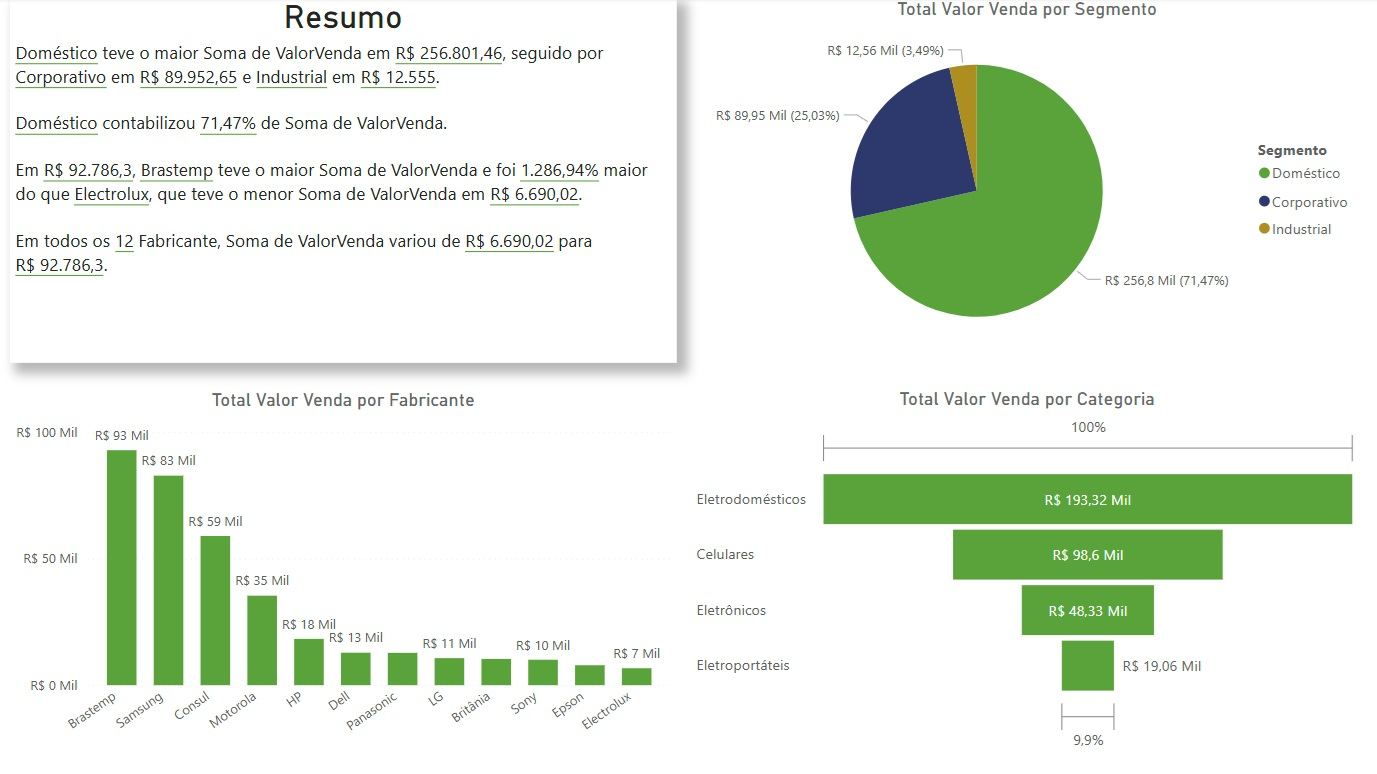

The dashboard page shown, as its layout file describes it:
{"tool":"powerbi","page":{"name":"Narrativa Inteligente","canvas":[1280,720],"ordinal":1},"visuals":[{"type":"pieChart","title":"Total Valor Venda por Segmento","fields":{"Category":["DadosComerciais.Segmento"],"Y":["Sum(DadosComerciais.ValorVenda)"]},"box":[640,0,619,336.4],"z":0},{"type":"funnel","title":"Total Valor Venda por Categoria","fields":{"Category":["DadosComerciais.Categoria"],"Y":["Sum(DadosComerciais.ValorVenda)"]},"box":[640,358.8,619,339.1],"z":1000},{"type":"clusteredColumnChart","title":"Total Valor Venda por Fabricante","fields":{"Category":["DadosComerciais.Fabricante"],"Y":["Sum(DadosComerciais.ValorVenda)"]},"box":[13.1,360.1,613.7,337.7],"z":2000},{"type":"textbox","title":"Resumo","box":[13.1,0,613.7,336.4],"z":3000}]}

Visuals, with their boxes in screenshot pixels (x1, y1, x2, y2), scaled from the page's 1280x720 canvas onto the 1377x774 screenshot:
"Total Valor Venda por Segmento" pieChart: <box>688,0,1354,362</box>
"Total Valor Venda por Categoria" funnel: <box>688,386,1354,750</box>
"Total Valor Venda por Fabricante" clusteredColumnChart: <box>14,387,674,750</box>
"Resumo" textbox: <box>14,0,674,362</box>
